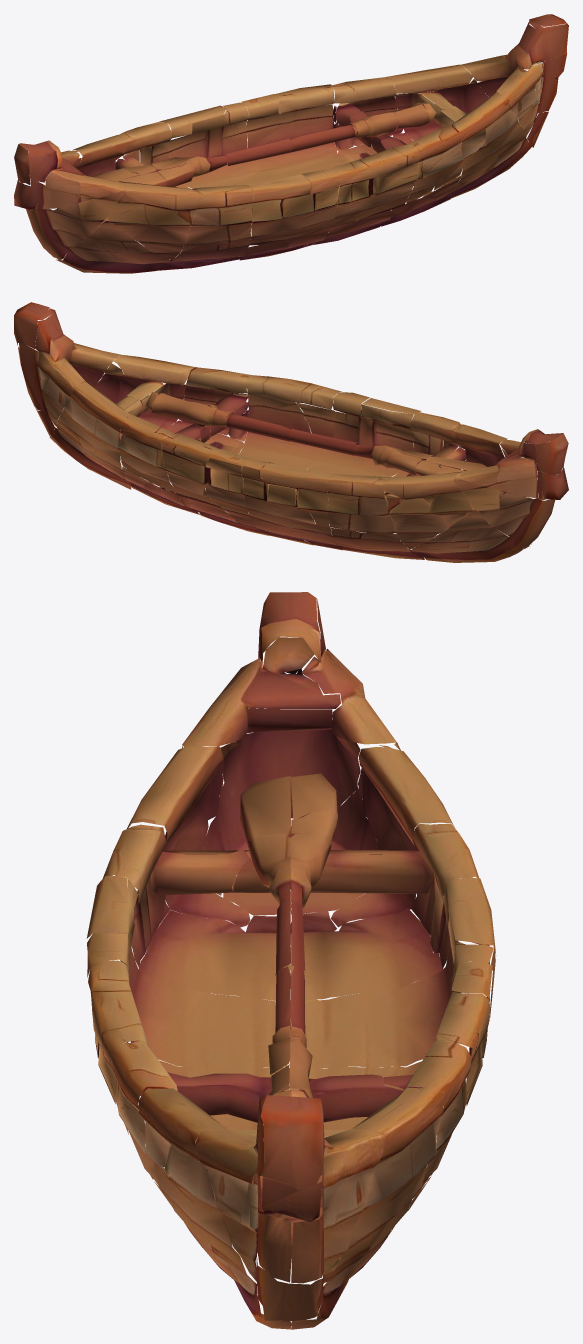
The model's file is canoa.glb.
3 views of the same model, one above another, from view 1: azimuth 30°, elevation 25°; view 2: azimuth 150°, elevation 25°; view 3: azimuth 270°, elevation 25° (orthographic). The views are drawn at different scales.
Visible parts, largest first — view 1: tripo_node_369b7d10-2cee-4c1f-a2f4-6ef817c5cc8d; view 2: tripo_node_369b7d10-2cee-4c1f-a2f4-6ef817c5cc8d; view 3: tripo_node_369b7d10-2cee-4c1f-a2f4-6ef817c5cc8d.
Boxes of the visible parts, left/top/right/bottom form: tripo_node_369b7d10-2cee-4c1f-a2f4-6ef817c5cc8d: left=14, top=14, right=568, bottom=273; tripo_node_369b7d10-2cee-4c1f-a2f4-6ef817c5cc8d: left=14, top=302, right=568, bottom=562; tripo_node_369b7d10-2cee-4c1f-a2f4-6ef817c5cc8d: left=86, top=592, right=496, bottom=1329.
Size of the model in its own units: 1 by 0.262 by 0.3247.
Materials: 1 (1 with a texture image).
